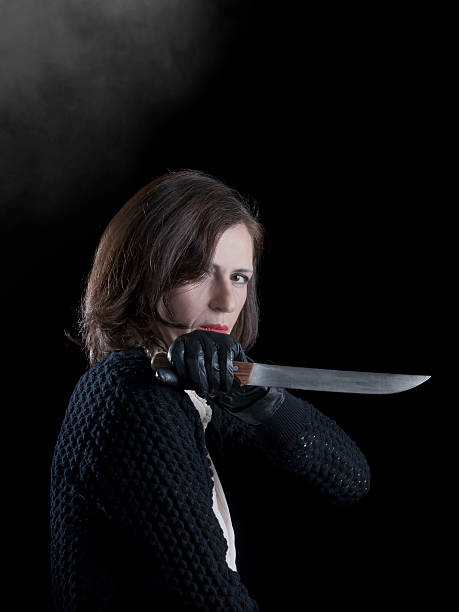knife: (146, 348, 435, 398)
